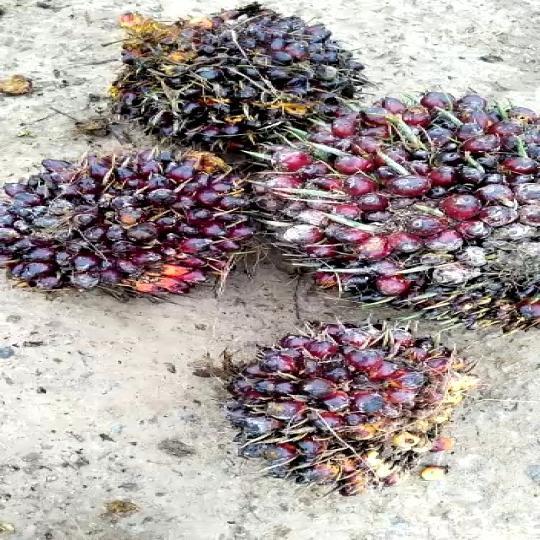kurang masak: (246, 78, 540, 338), (190, 313, 480, 503), (0, 144, 273, 334), (106, 2, 362, 158)
